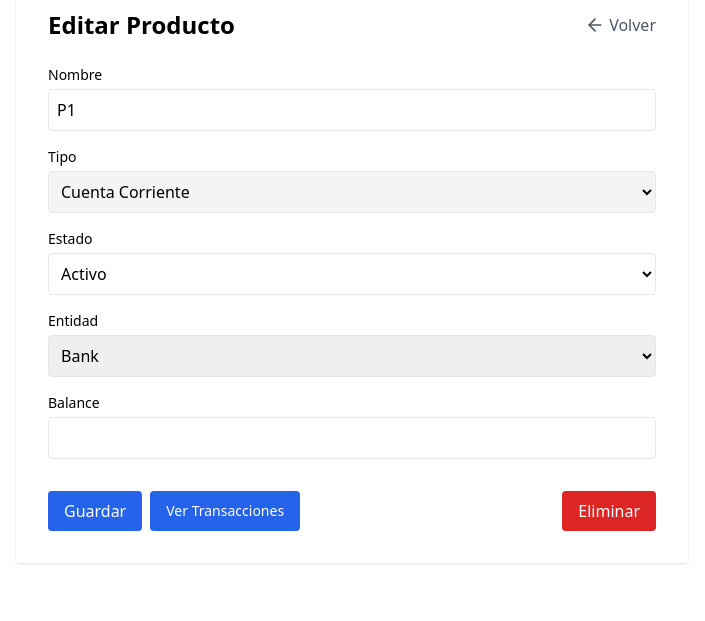
Test: ProductFormPage › displays error on delete failure
Click the button "Eliminar" at point(609, 511), box [562,491,656,531]
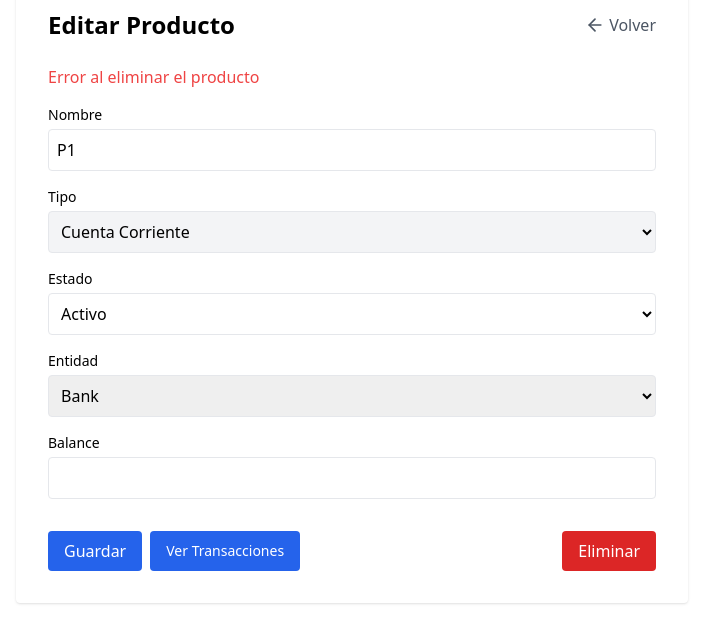
Now the text "Error al eliminar el producto" is shown, box [48,66,260,88]
